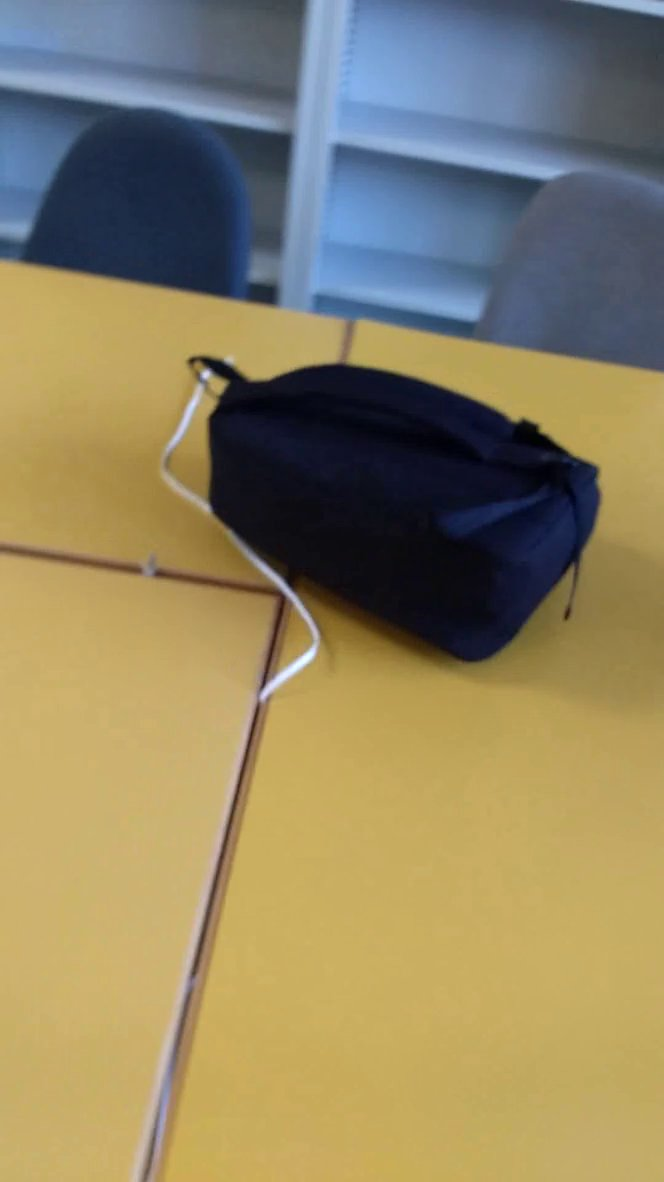bag: (184, 344, 626, 670)
chair: (13, 98, 259, 336), (460, 155, 664, 399)
